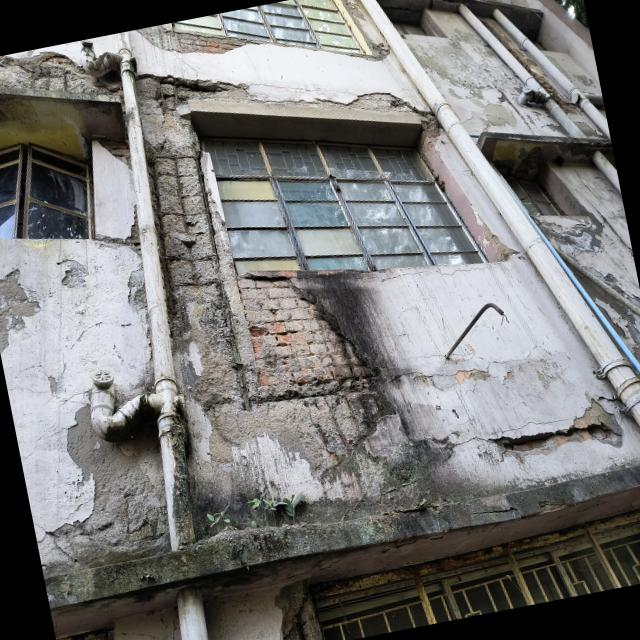Crack: (477, 388, 630, 468)
Moss growth due to damping: (67, 429, 640, 622)
Scaling: (37, 355, 306, 564), (542, 204, 640, 366), (53, 182, 150, 338), (273, 61, 430, 139), (0, 259, 40, 356), (174, 209, 178, 213)
Spalling: (137, 69, 408, 591), (0, 55, 123, 160)
exposed brickwork: (244, 271, 393, 426), (159, 30, 258, 67)
